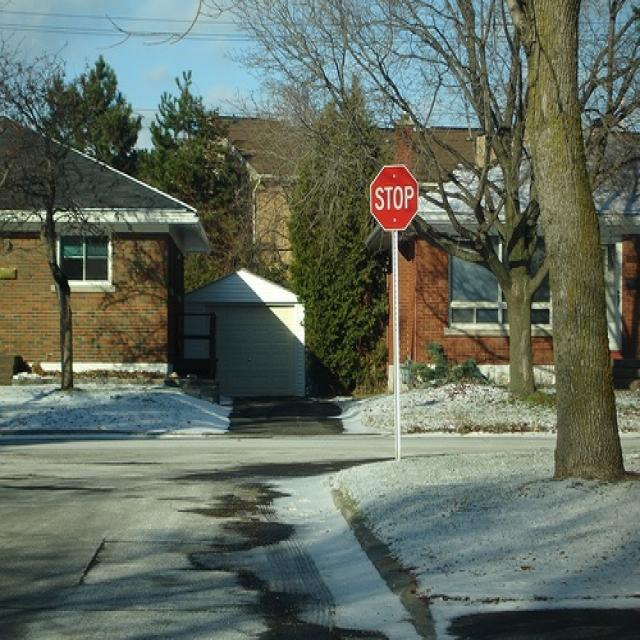pole: (389, 228, 402, 461)
